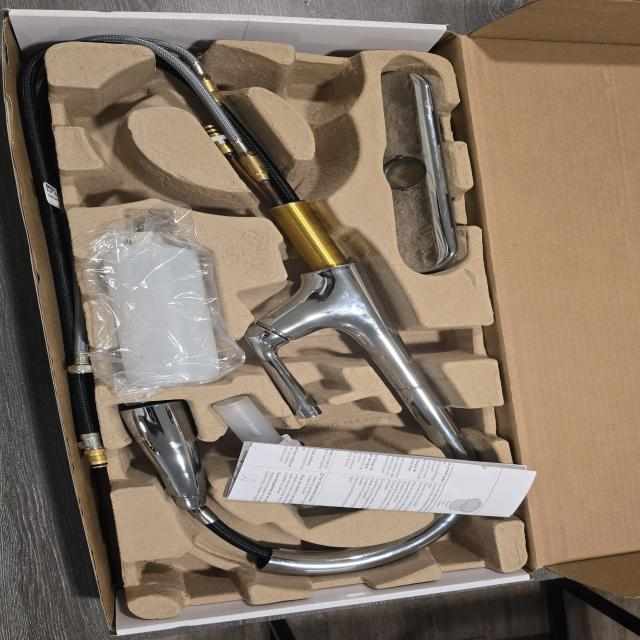1o: (121, 43, 485, 576)
2o: (211, 394, 412, 511)
3: (101, 216, 217, 386)
4: (380, 71, 458, 270)
5m: (278, 69, 357, 123)
6m: (63, 68, 164, 144)
7m: (79, 150, 215, 209)
8: (226, 440, 540, 519)
